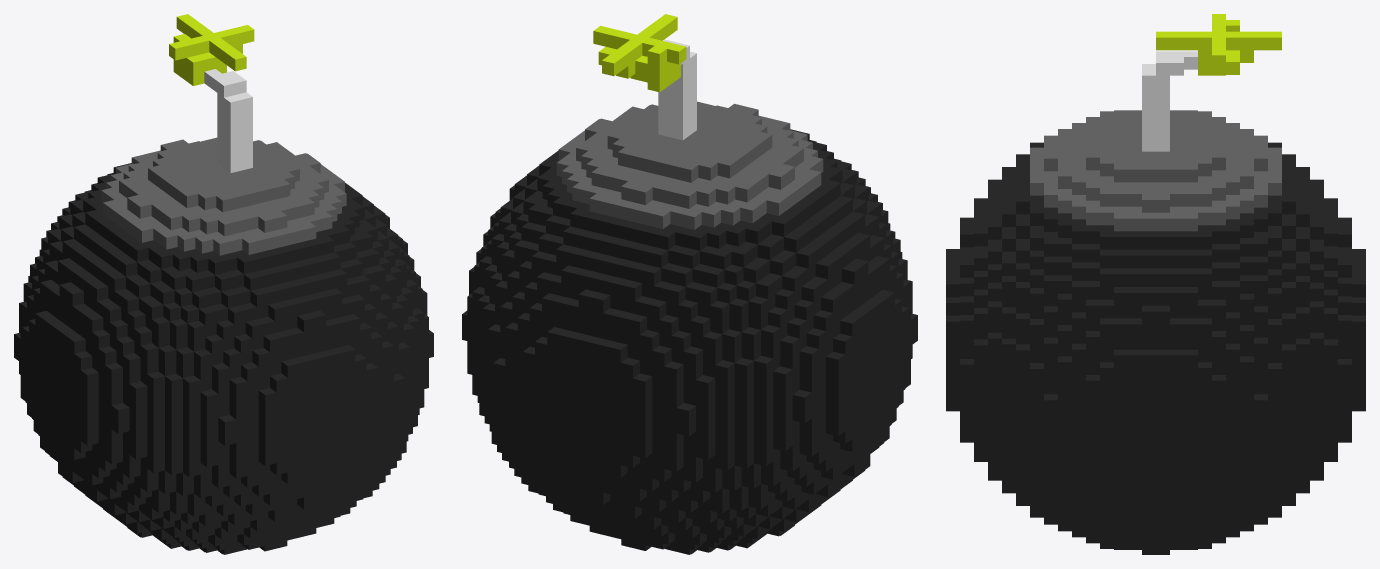
The model's file is bomb.fbx.
3 renders of one model, left to right at view 1: azimuth 30°, elevation 25°; view 2: azimuth 150°, elevation 25°; view 3: azimuth 270°, elevation 25°, orthographic. The views are drawn at different scales.
Parts seen in each view (by area): view 1: Sphere; view 2: Sphere; view 3: Sphere.
Boxes of the visible parts, bbox=[...] form: Sphere: bbox=[14, 14, 433, 554]; Sphere: bbox=[462, 14, 917, 554]; Sphere: bbox=[946, 14, 1365, 554].
Size of the model in its own units: 30 by 39 by 30.
